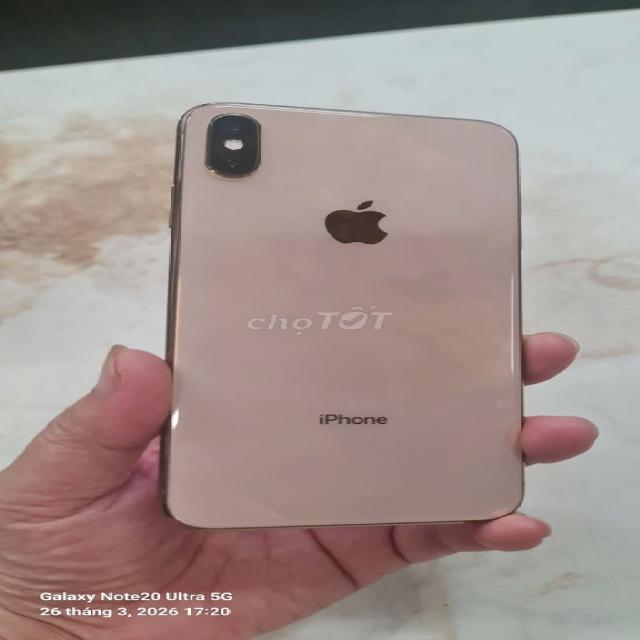gen_x_xs: (160, 102, 523, 532)
